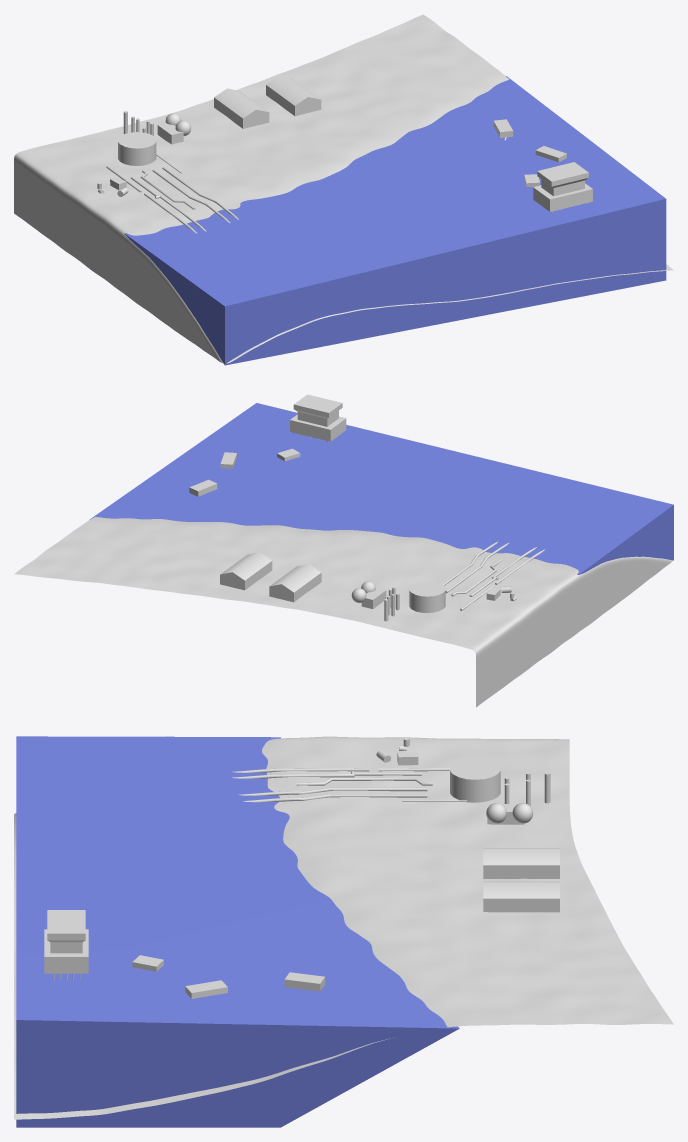
Rendered from escena.glb.
3 renders of one model, top to bottom at view 1: azimuth 30°, elevation 25°; view 2: azimuth 150°, elevation 25°; view 3: azimuth 270°, elevation 25°, orthographic. The views are drawn at different scales.
Visible parts, largest first — view 1: Box002, Plane001, Box005, Box008, Box007, Line004, Cylinder001; view 2: Box002, Plane001, Box005, Box008, Box007, Line004, Cylinder001; view 3: Box002, Plane001, Line004, Box005, Box008, Box007, Cylinder001, Box003.
Boxes of the visible parts, x1,y1,x2,y2 form: Box002: [124, 76, 666, 365]; Plane001: [14, 14, 673, 363]; Box005: [533, 162, 592, 211]; Box008: [266, 75, 321, 116]; Box007: [214, 88, 269, 128]; Line004: [106, 165, 238, 233]; Cylinder001: [118, 132, 156, 165]; Box002: [89, 403, 673, 574]; Plane001: [14, 517, 672, 707]; Box005: [290, 394, 346, 441]; Box008: [220, 552, 272, 590]; Box007: [269, 564, 321, 602]; Line004: [442, 541, 544, 610]; Cylinder001: [409, 581, 445, 613]; Box002: [16, 736, 459, 1127]; Plane001: [14, 736, 673, 1119]; Line004: [232, 768, 449, 802]; Box005: [44, 910, 88, 973]; Box008: [483, 881, 559, 912]; Box007: [483, 848, 559, 878]; Cylinder001: [450, 758, 500, 802]; Box003: [284, 972, 325, 991].
Bounding box in the file's own units: 46.05 × 11.25 × 44.35.
